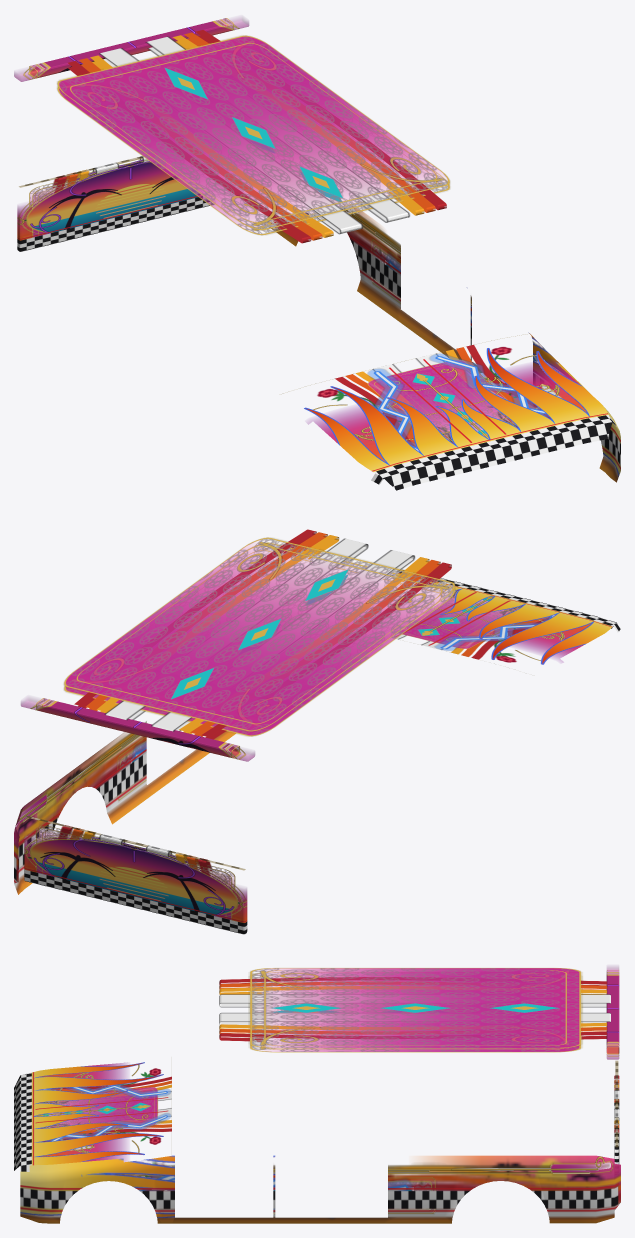
File: ShorelineSixVinyls.glb
The picture shows the model from 3 angles, top to bottom: view 1: azimuth 30°, elevation 25°; view 2: azimuth 150°, elevation 25°; view 3: azimuth 270°, elevation 25°; orthographic projection. The views are drawn at different scales.
Parts seen in each view (by area): view 1: ShorelineSixLivery_patterns_roof, ShorelineSixLivery_purple_lace_roof, ShorelineSixLivery_flames_hood, ShorelineSixLivery_mural_trunk, ShorelineSixLivery_retro_waves_roof, ShorelineSixLivery_checker_hood, ShorelineSixLivery_stripes_roof, ShorelineSixLivery_patterns_hood, ShorelineSixLivery_showcar_roof, ShorelineSixLivery_checker_trunk, ShorelineSixLivery_lightning_hood, ShorelineSixLivery_purple_lace_hood (+14 smaller); view 2: ShorelineSixLivery_patterns_roof, ShorelineSixLivery_purple_lace_roof, ShorelineSixLivery_mural_trunk, ShorelineSixLivery_retro_waves_roof, ShorelineSixLivery_stripes_roof, ShorelineSixLivery_flames_hood, ShorelineSixLivery_checker_trunk, ShorelineSixLivery_showcar_roof, ShorelineSixLivery_patterns_hood, ShorelineSixLivery_retro_waves_side, ShorelineSixLivery_sunset_fade_side, ShorelineSixLivery_checker_side (+15 smaller); view 3: ShorelineSixLivery_patterns_roof, ShorelineSixLivery_purple_lace_roof, ShorelineSixLivery_flames_hood, ShorelineSixLivery_retro_waves_roof, ShorelineSixLivery_checker_side, ShorelineSixLivery_flames_side, ShorelineSixLivery_stripes_roof, ShorelineSixLivery_tropical_side, ShorelineSixLivery_retro_waves_side, ShorelineSixLivery_sunset_fade_side, ShorelineSixLivery_patterns_hood, ShorelineSixLivery_stripes_side (+18 smaller).
Part boxes in pixels (box(x1,y1,x2,y2)): ShorelineSixLivery_patterns_roof: box(57, 35, 449, 234); ShorelineSixLivery_purple_lace_roof: box(69, 47, 448, 233); ShorelineSixLivery_flames_hood: box(304, 348, 608, 471); ShorelineSixLivery_mural_trunk: box(17, 19, 239, 234); ShorelineSixLivery_retro_waves_roof: box(68, 30, 446, 243); ShorelineSixLivery_checker_hood: box(371, 359, 616, 490); ShorelineSixLivery_stripes_roof: box(99, 36, 409, 234); ShorelineSixLivery_patterns_hood: box(367, 360, 515, 442); ShorelineSixLivery_showcar_roof: box(57, 35, 450, 235); ShorelineSixLivery_checker_trunk: box(17, 156, 213, 251); ShorelineSixLivery_lightning_hood: box(367, 353, 548, 451); ShorelineSixLivery_purple_lace_hood: box(400, 369, 514, 441); ShorelineSixLivery_patterns_roof: box(64, 538, 454, 736); ShorelineSixLivery_purple_lace_roof: box(77, 539, 452, 725); ShorelineSixLivery_mural_trunk: box(24, 699, 247, 917); ShorelineSixLivery_retro_waves_roof: box(74, 529, 451, 739); ShorelineSixLivery_stripes_roof: box(104, 538, 414, 731); ShorelineSixLivery_flames_hood: box(392, 573, 612, 664); ShorelineSixLivery_checker_trunk: box(24, 816, 247, 934); ShorelineSixLivery_showcar_roof: box(64, 537, 455, 736); ShorelineSixLivery_patterns_hood: box(401, 591, 519, 648); ShorelineSixLivery_retro_waves_side: box(14, 722, 146, 878); ShorelineSixLivery_sunset_fade_side: box(14, 731, 236, 894); ShorelineSixLivery_checker_side: box(14, 749, 146, 882); ShorelineSixLivery_patterns_roof: box(250, 968, 580, 1052); ShorelineSixLivery_purple_lace_roof: box(250, 968, 580, 1051); ShorelineSixLivery_flames_hood: box(31, 1062, 163, 1165); ShorelineSixLivery_retro_waves_roof: box(219, 977, 606, 1041); ShorelineSixLivery_checker_side: box(20, 1183, 618, 1211); ShorelineSixLivery_flames_side: box(20, 1155, 598, 1217); ShorelineSixLivery_stripes_roof: box(219, 994, 610, 1024); ShorelineSixLivery_tropical_side: box(419, 1155, 620, 1192); ShorelineSixLivery_retro_waves_side: box(120, 1164, 620, 1200); ShorelineSixLivery_sunset_fade_side: box(20, 1166, 620, 1223); ShorelineSixLivery_patterns_hood: box(38, 1087, 157, 1131); ShorelineSixLivery_stripes_side: box(20, 1201, 620, 1219).
Bounding box in the file's own units: 7.57 × 5.79 × 19.2.
Materials: 50 (50 with a texture image).
